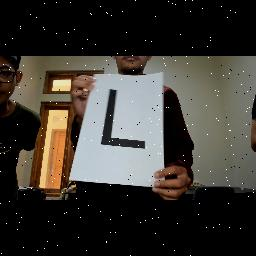l: (96, 85, 148, 153)
